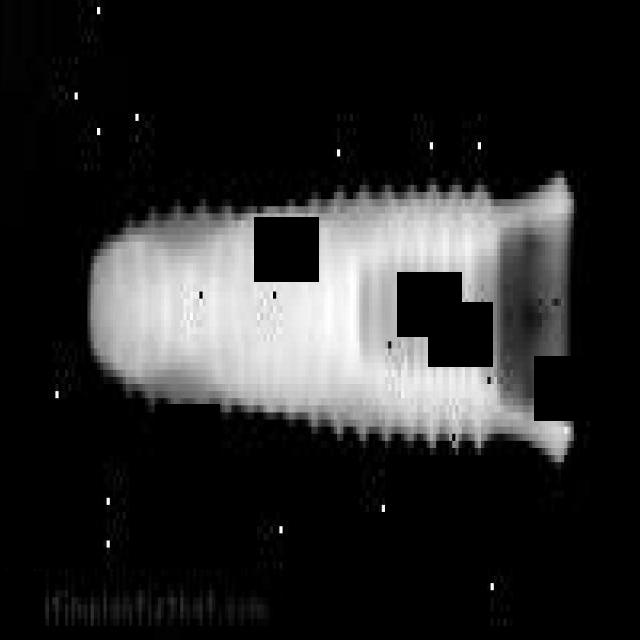Titan Implant Implant: (83, 171, 570, 469)
